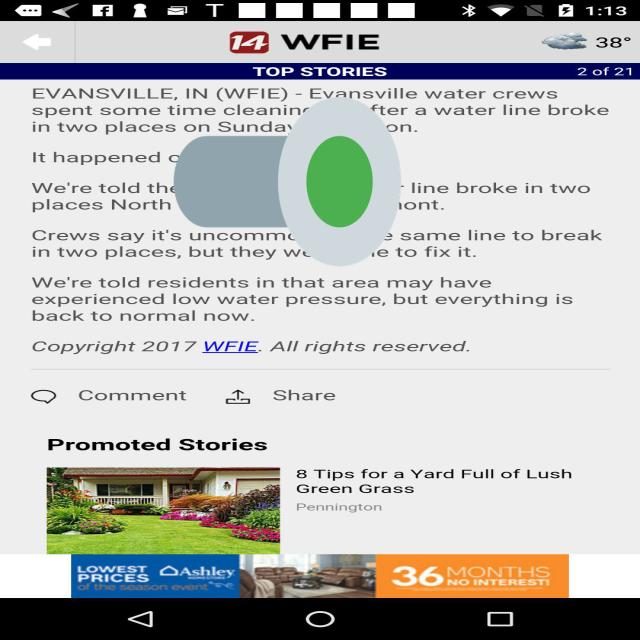social proof: (174, 25, 401, 338)
